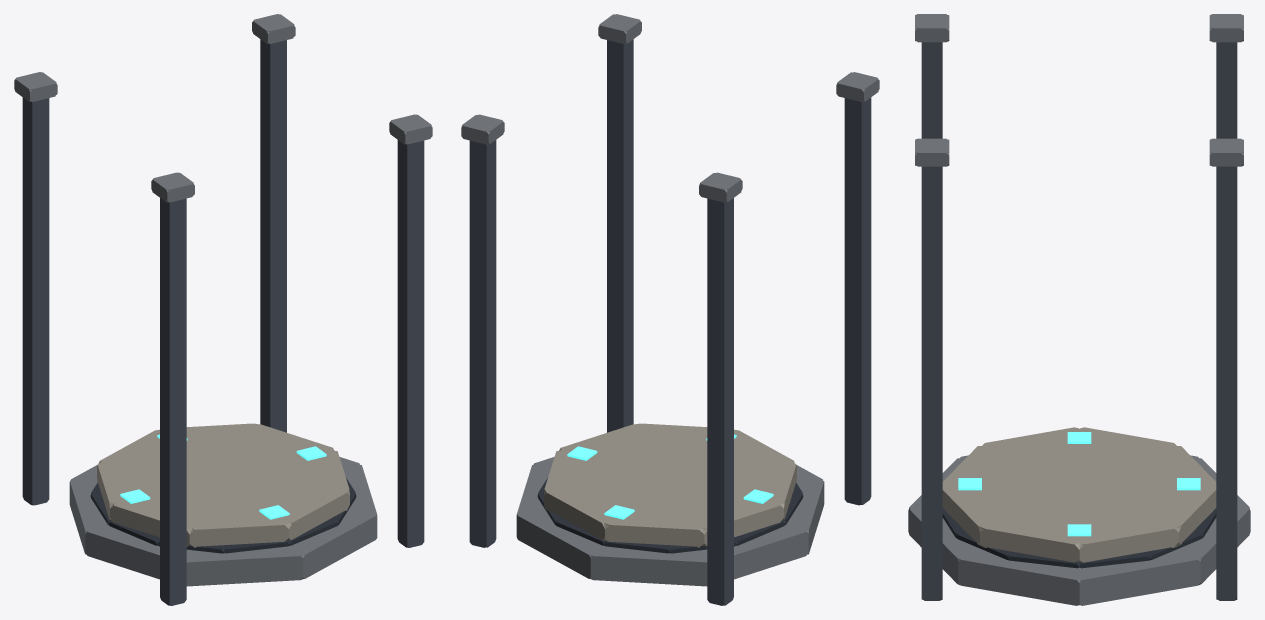
Rendered from wind_lift_palace_visual.glb.
The picture shows the model from 3 angles, left to right: view 1: azimuth 30°, elevation 25°; view 2: azimuth 150°, elevation 25°; view 3: azimuth 270°, elevation 25°; orthographic projection. The views are drawn at different scales.
Visible parts, largest first — view 1: wind_lift_palace_visual_Static, LiftDeck; view 2: wind_lift_palace_visual_Static, LiftDeck; view 3: wind_lift_palace_visual_Static, LiftDeck.
Part boxes in pixels (x1,y1,x2,y2): wind_lift_palace_visual_Static: [14, 14, 432, 605]; LiftDeck: [97, 423, 349, 547]; wind_lift_palace_visual_Static: [461, 14, 879, 605]; LiftDeck: [544, 423, 796, 547]; wind_lift_palace_visual_Static: [908, 14, 1250, 605]; LiftDeck: [942, 427, 1216, 562].
Bounding box in the file's own units: 3.6 × 5.23 × 3.6.
